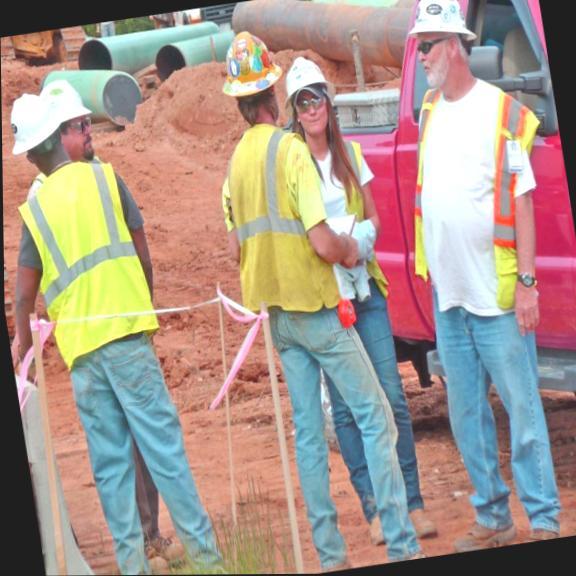safety_vest: (13, 147, 165, 372), (213, 110, 346, 331)
